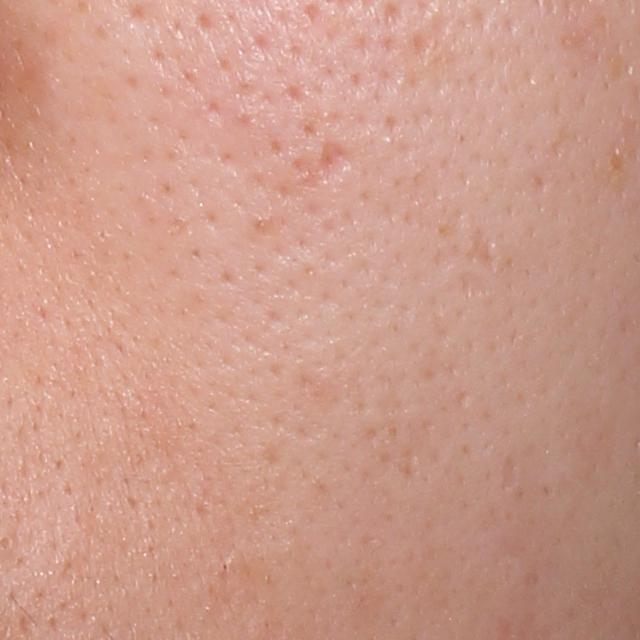atrophic_scar: (288, 140, 355, 194), (465, 224, 499, 276), (499, 449, 522, 493)
